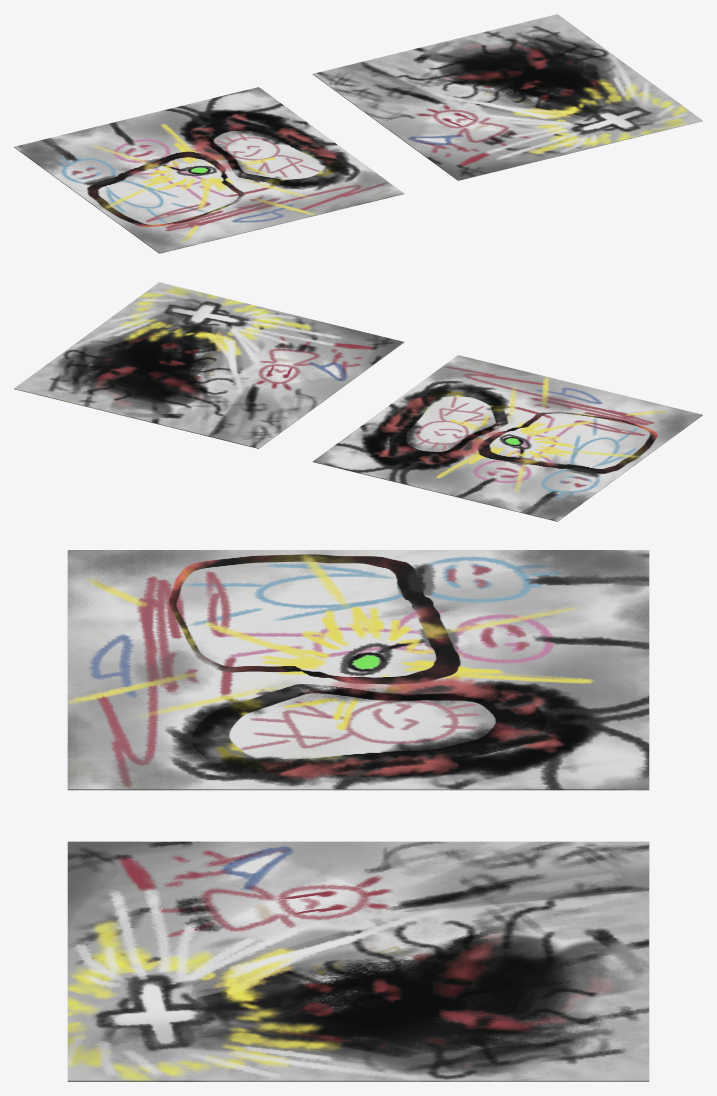
File: Pic.fbx
The picture shows the model from 3 angles, top to bottom: view 1: azimuth 30°, elevation 25°; view 2: azimuth 150°, elevation 25°; view 3: azimuth 270°, elevation 25°; orthographic projection. The views are drawn at different scales.
Parts seen in each view (by area): view 1: 平面, 平面.001; view 2: 平面, 平面.001; view 3: 平面, 平面.001.
Part boxes in pixels (x1,y1,x2,y2): 平面: (312,14,702,180); 平面.001: (14,87,404,253); 平面: (14,282,404,448); 平面.001: (312,355,702,521); 平面: (67,841,649,1081); 平面.001: (67,550,649,790).
Size of the model in its own units: 1072 by 1.21 by 497.
